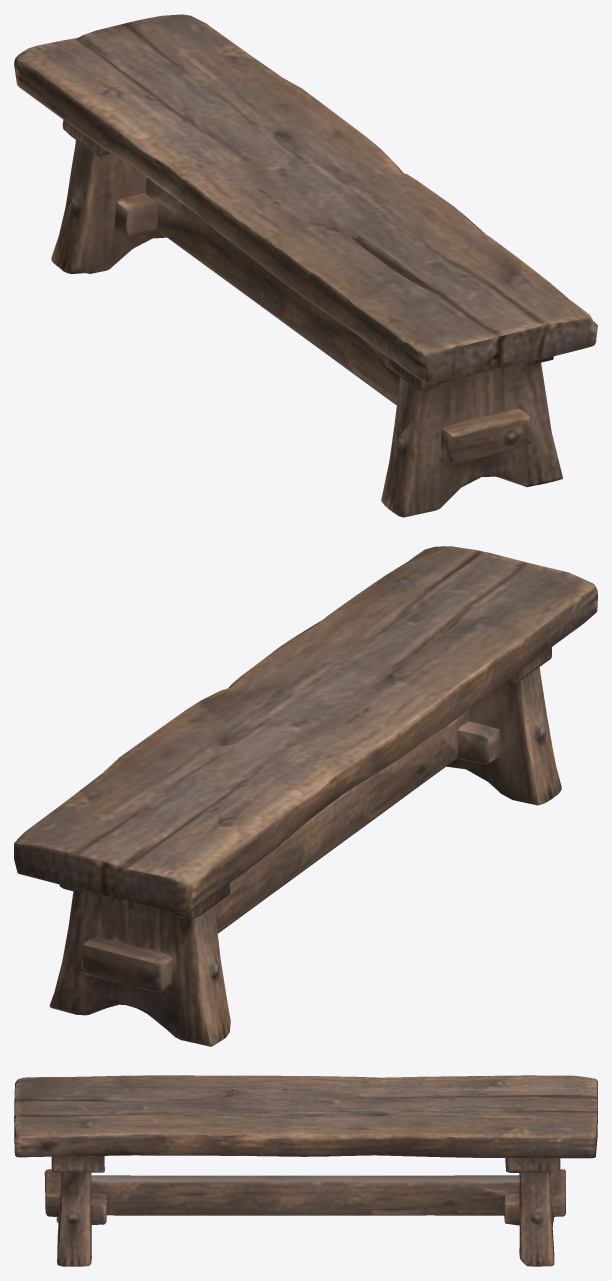
3 renders of one model, top to bottom at view 1: azimuth 30°, elevation 25°; view 2: azimuth 150°, elevation 25°; view 3: azimuth 270°, elevation 25°, orthographic. The views are drawn at different scales.
Parts seen in each view (by area): view 1: geometry_0; view 2: geometry_0; view 3: geometry_0.
Boxes of the visible parts, x1,y1,x2,y2 form: geometry_0: (14, 14, 597, 517); geometry_0: (14, 546, 597, 1046); geometry_0: (14, 1075, 597, 1266).
Bounding box in the file's own units: 1.2 × 1.23 × 4.74.
1 material, 1 textured.
